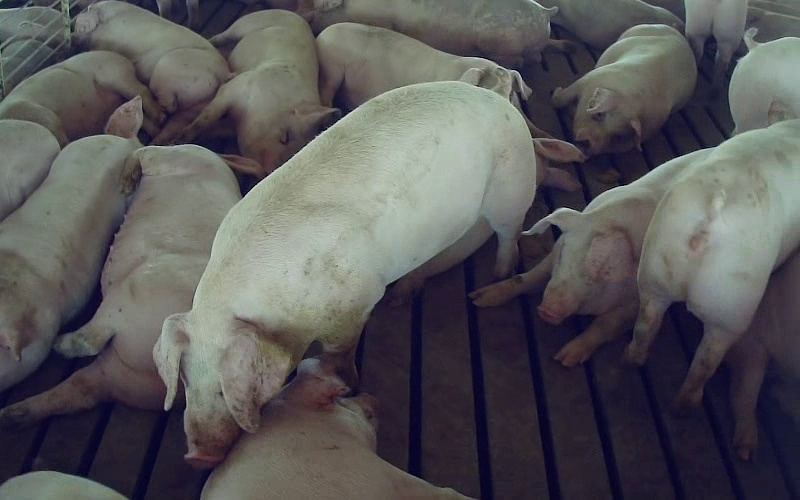pig: (0, 145, 258, 424), (470, 148, 713, 366), (626, 119, 799, 406), (0, 96, 142, 390), (201, 358, 470, 499), (183, 9, 339, 173), (74, 0, 229, 144), (552, 24, 696, 155), (316, 23, 530, 109), (312, 0, 556, 66), (0, 51, 164, 146)
